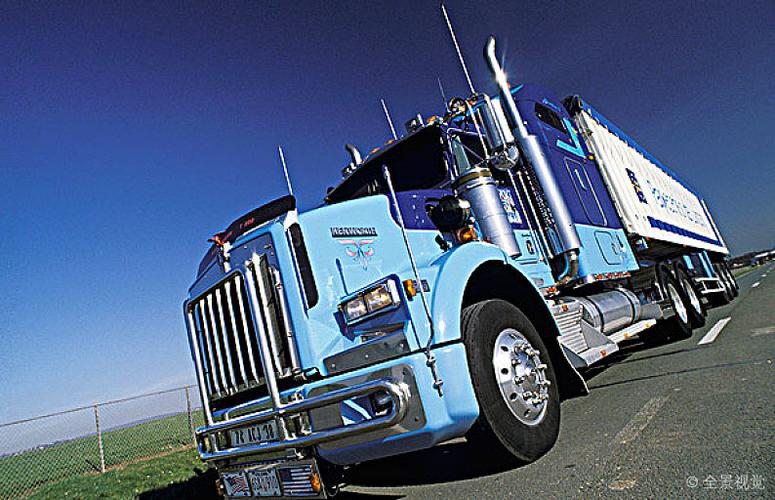卡车: (162, 75, 747, 491)
